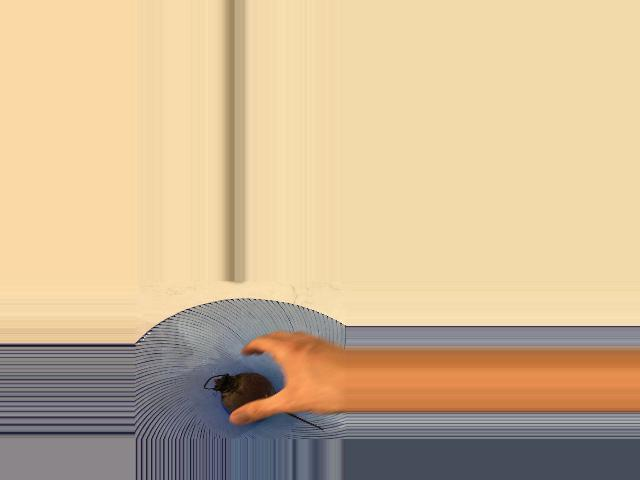beet: (203, 372, 322, 430)
